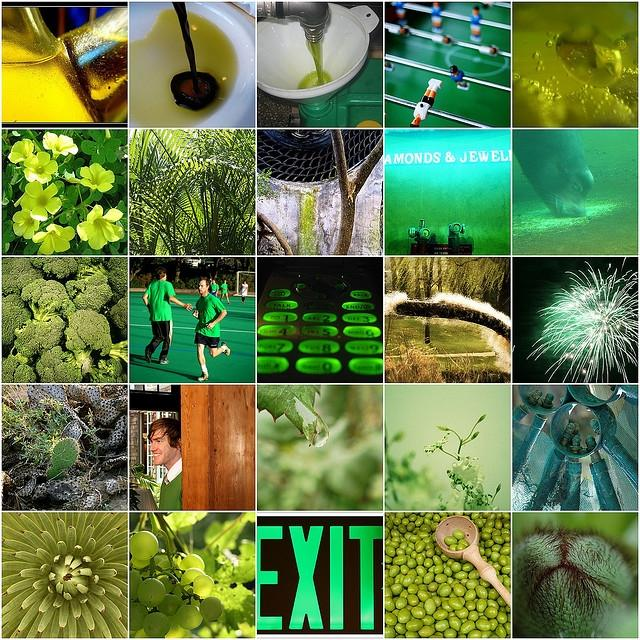broccoli: (20, 277, 76, 321), (64, 309, 112, 360), (14, 316, 68, 358), (64, 274, 112, 314), (0, 258, 44, 298), (1, 292, 32, 346), (36, 346, 82, 382), (29, 257, 78, 279), (2, 354, 37, 383), (110, 290, 128, 340), (102, 266, 128, 295), (106, 358, 122, 377)
grape: (137, 578, 166, 608), (130, 530, 158, 560), (142, 612, 170, 638), (176, 604, 203, 630), (181, 567, 206, 591), (129, 602, 149, 631), (200, 597, 223, 621), (192, 574, 215, 596), (158, 594, 181, 616), (156, 559, 180, 579), (179, 554, 205, 571), (130, 570, 142, 602), (158, 576, 174, 594), (130, 555, 150, 568), (172, 552, 187, 568), (174, 586, 182, 596), (130, 630, 138, 634)
